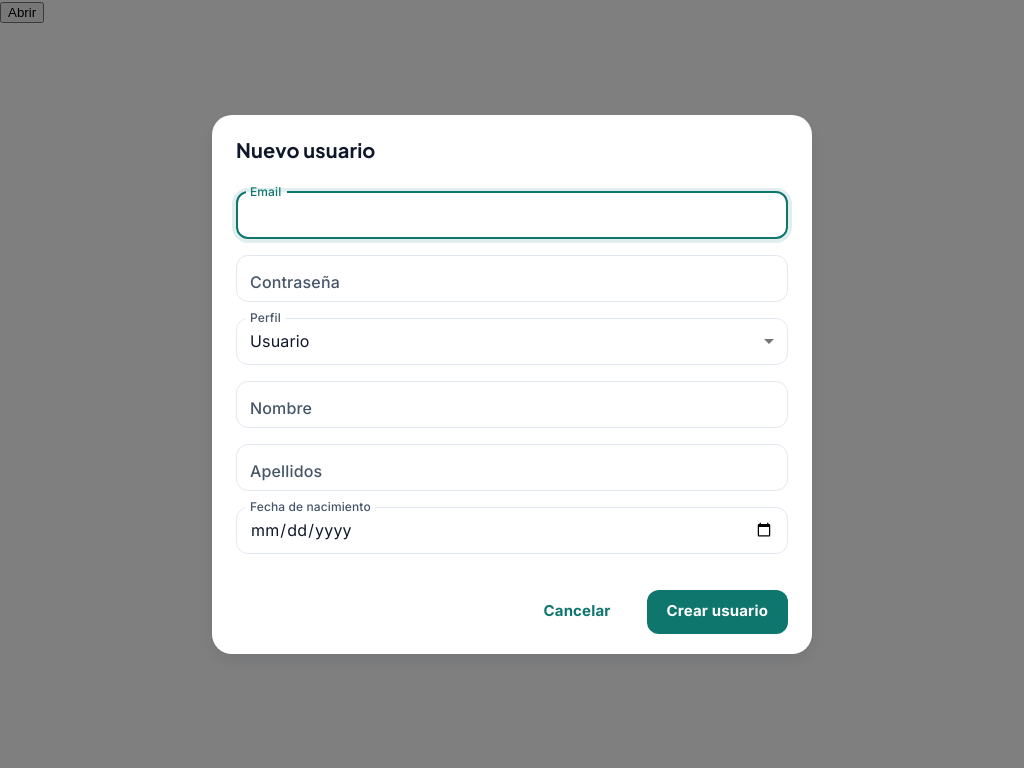
CreateUserDialog › offers the three profiles
Click the dropdown named "Perfil": point(280, 340) [250,330,310,350]
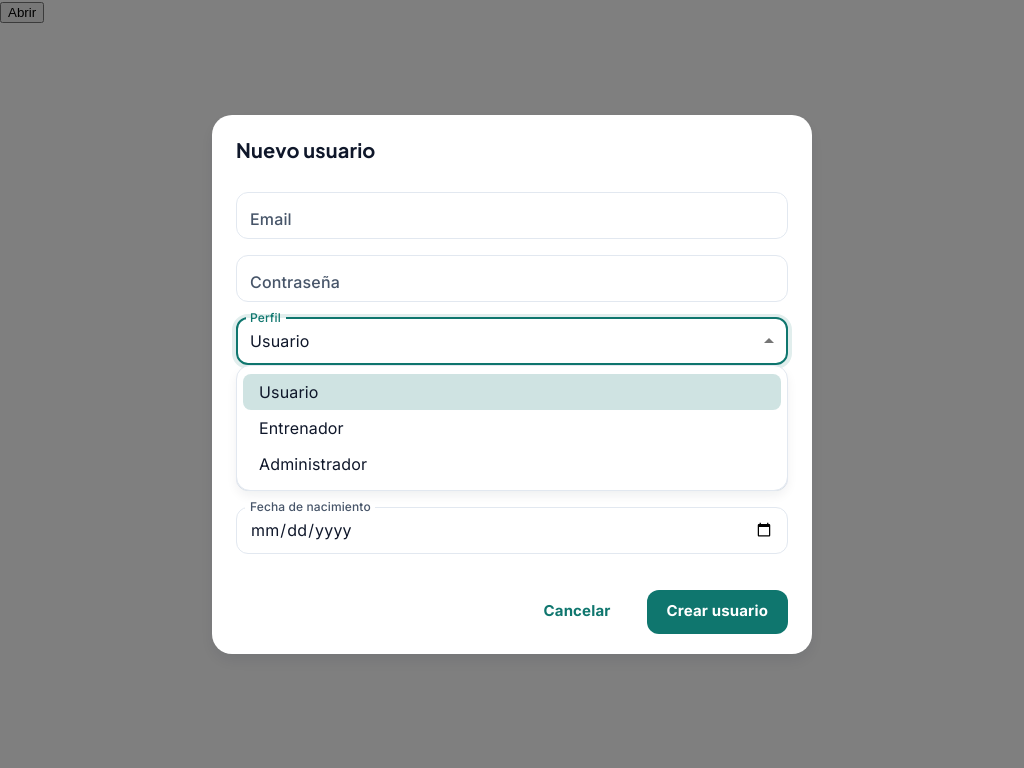
Expected: the options read "Usuario", "Entrenador", "Administrador", in this order, [243,374,781,410]; [259,418,344,438]; [259,454,367,474]
